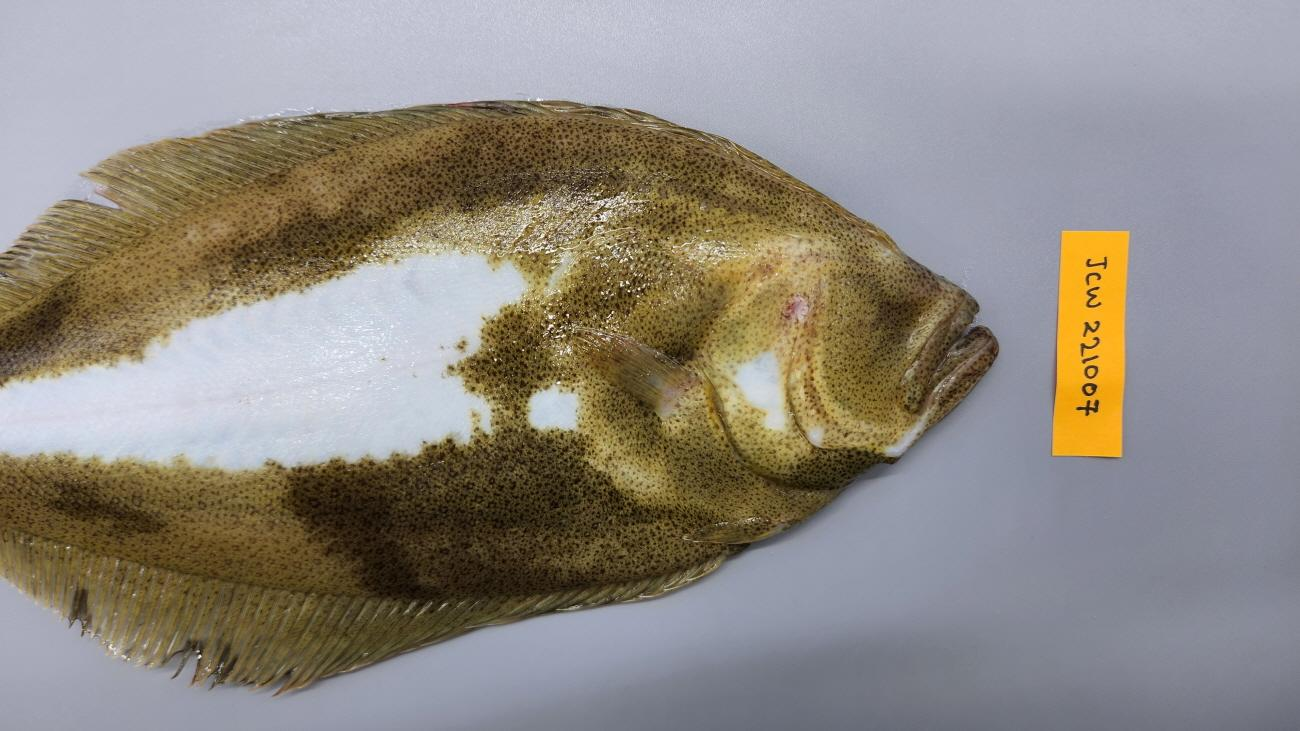POOUN: (0, 100, 1000, 696)
